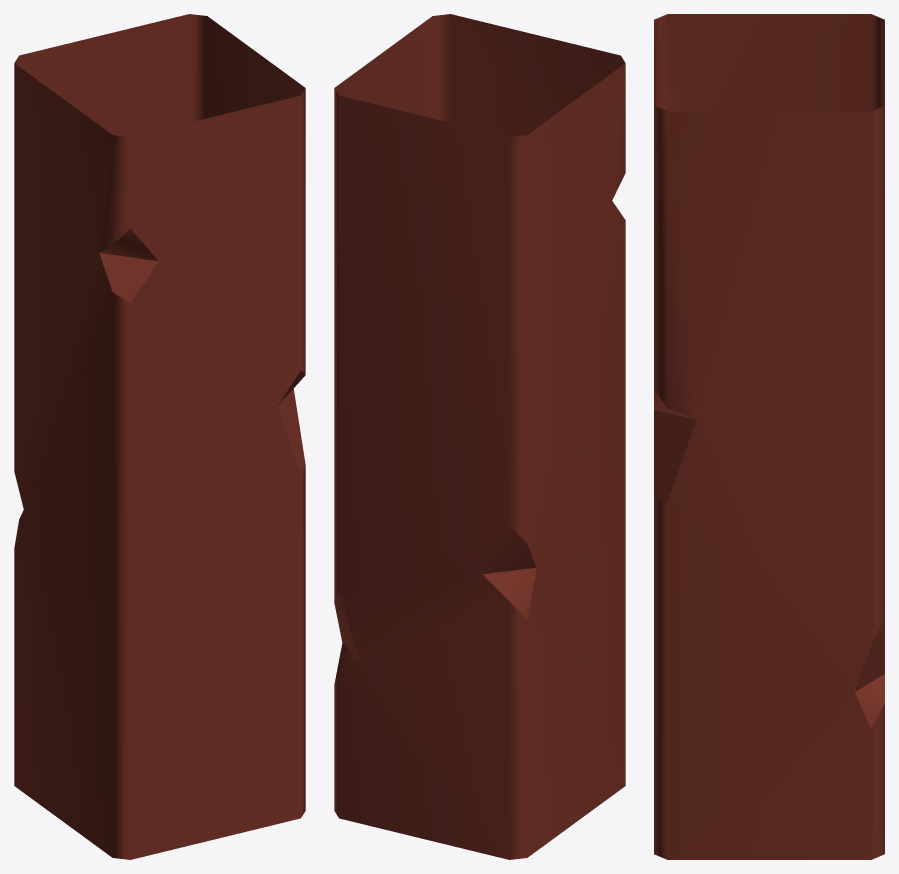
Rendered from pillar_013.fbx.
3 renders of one model, left to right at view 1: azimuth 30°, elevation 25°; view 2: azimuth 150°, elevation 25°; view 3: azimuth 270°, elevation 25°, orthographic. The views are drawn at different scales.
Visible parts, largest first — view 1: pillar_013; view 2: pillar_013; view 3: pillar_013.
Part boxes in pixels (left/top/right/bottom): pillar_013: left=14, top=14, right=305, bottom=859; pillar_013: left=334, top=14, right=625, bottom=859; pillar_013: left=654, top=14, right=884, bottom=859.
Bounding box in the file's own units: 279 × 279 × 1000.
